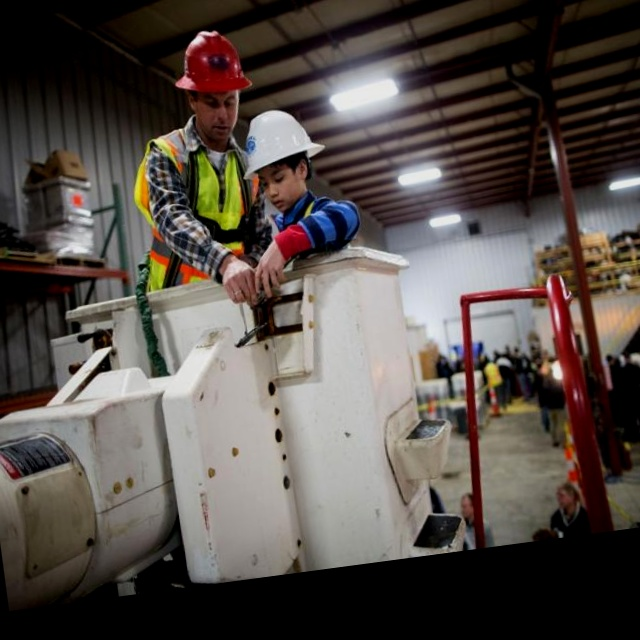Con_Casco: (171, 20, 254, 136), (239, 103, 329, 202)
